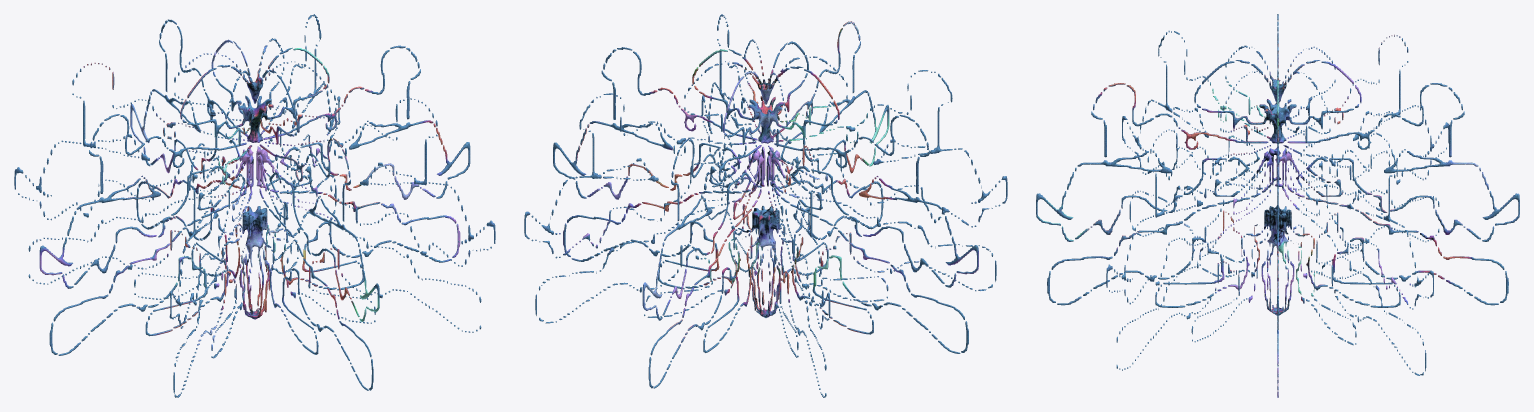
Rendered from drip.glb.
The picture shows the model from 3 angles, left to right: view 1: azimuth 30°, elevation 25°; view 2: azimuth 150°, elevation 25°; view 3: azimuth 270°, elevation 25°; orthographic projection. The views are drawn at different scales.
Parts seen in each view (by area): view 1: GP_Layer%2E001; view 2: GP_Layer%2E001; view 3: GP_Layer%2E001.
Part boxes in pixels (<box>): GP_Layer%2E001: <box>14,14,495,397</box>; GP_Layer%2E001: <box>524,14,1007,397</box>; GP_Layer%2E001: <box>1036,14,1519,397</box>.
Bounding box in the file's own units: 22.15 × 12.94 × 22.15.
Materials: 1 (1 with a texture image).
